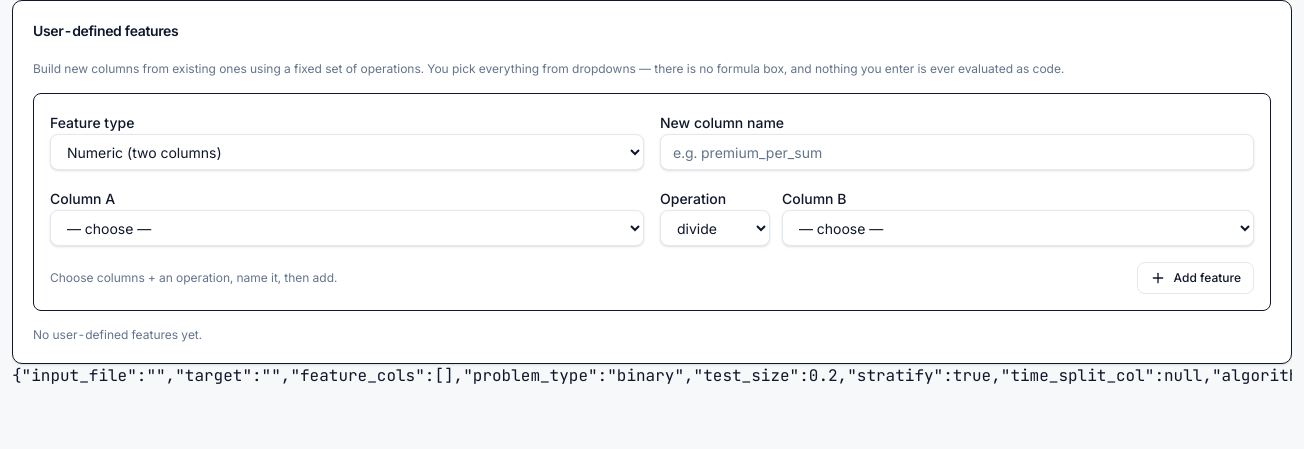
FeatureBuilderPanel › adds a numeric feature with the right spec shape to the payload
// type defaults to numeric.
Select "premium" in the dropdown labelled "Column A" at (347, 228), box [50,210,644,246]
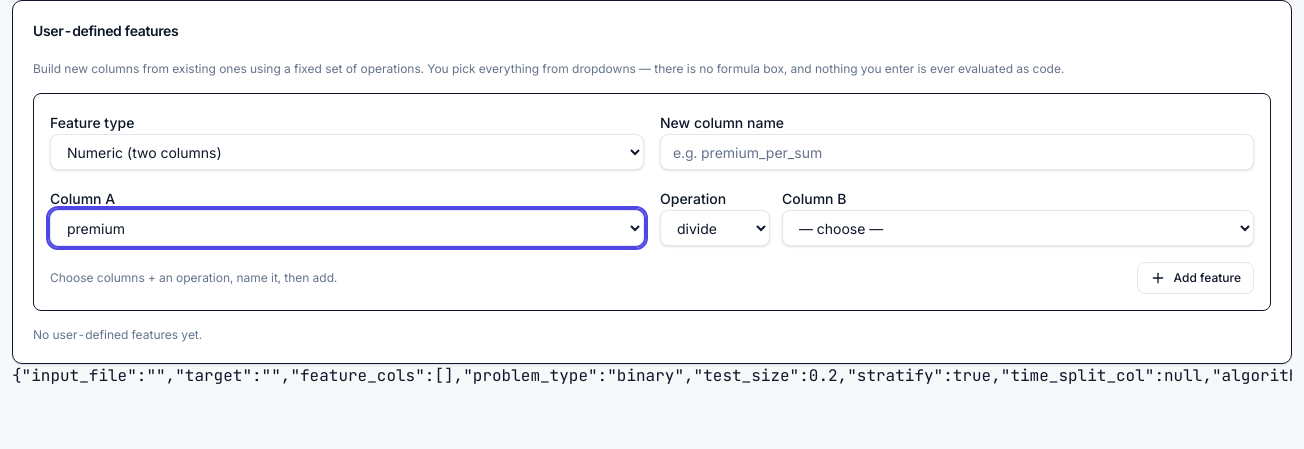
Select "divide" in the dropdown labelled "Operation" at (715, 228), box [660,210,770,246]
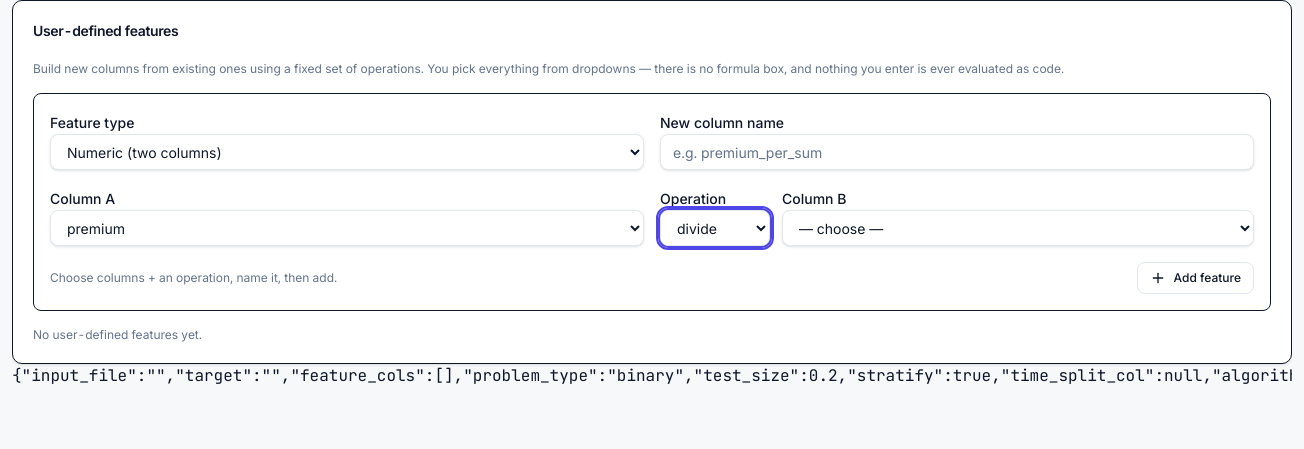
Select "sum_assured" in the dropdown labelled "Column B" at (1018, 228), box [782,210,1254,246]
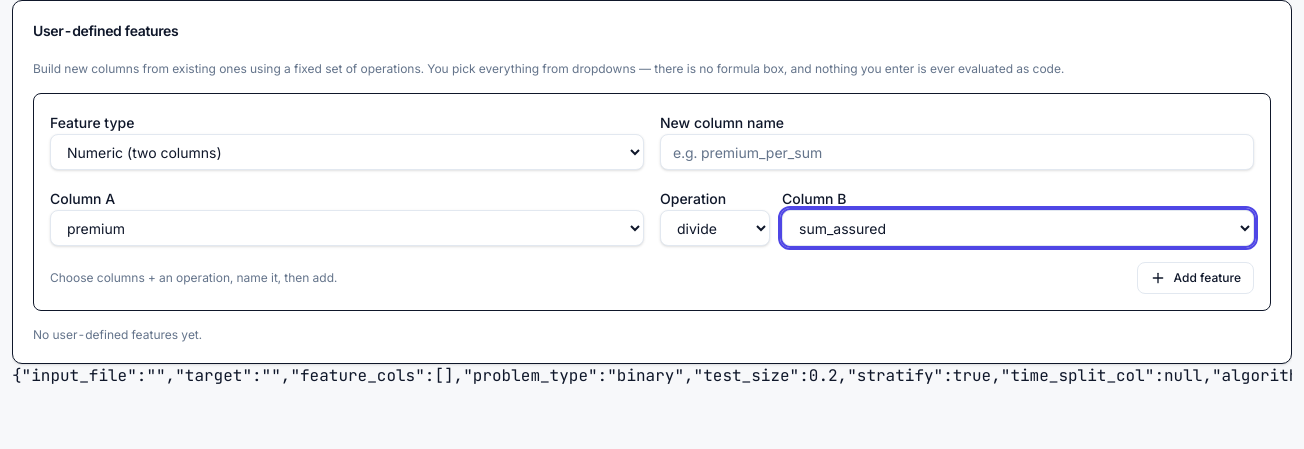
Type "premium_per_sum" into the field named "New feature name" at (957, 152), box [660,134,1254,170]
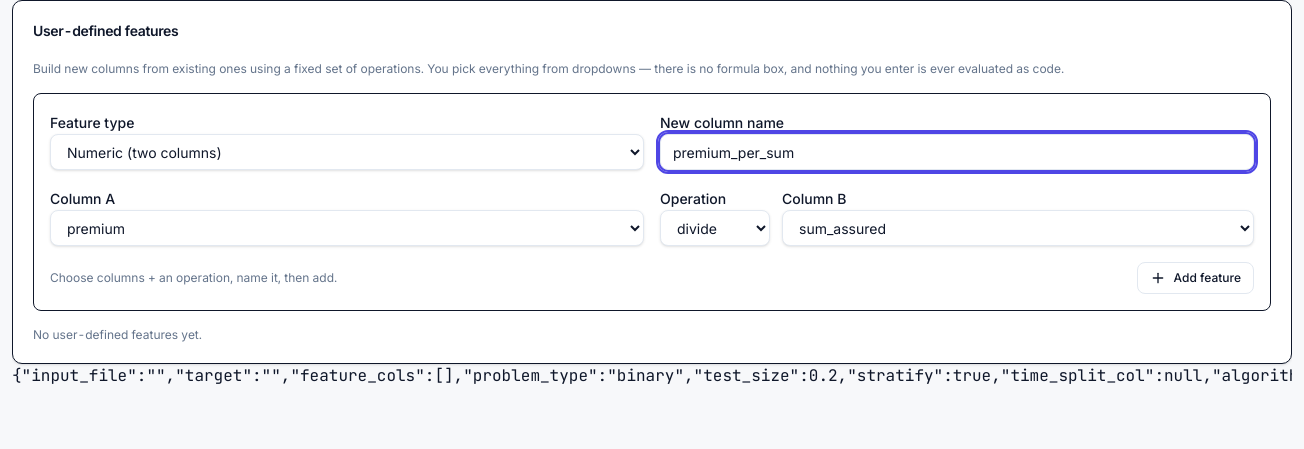
Click the button "Add feature" at (1195, 278), box [1136,262,1254,294]
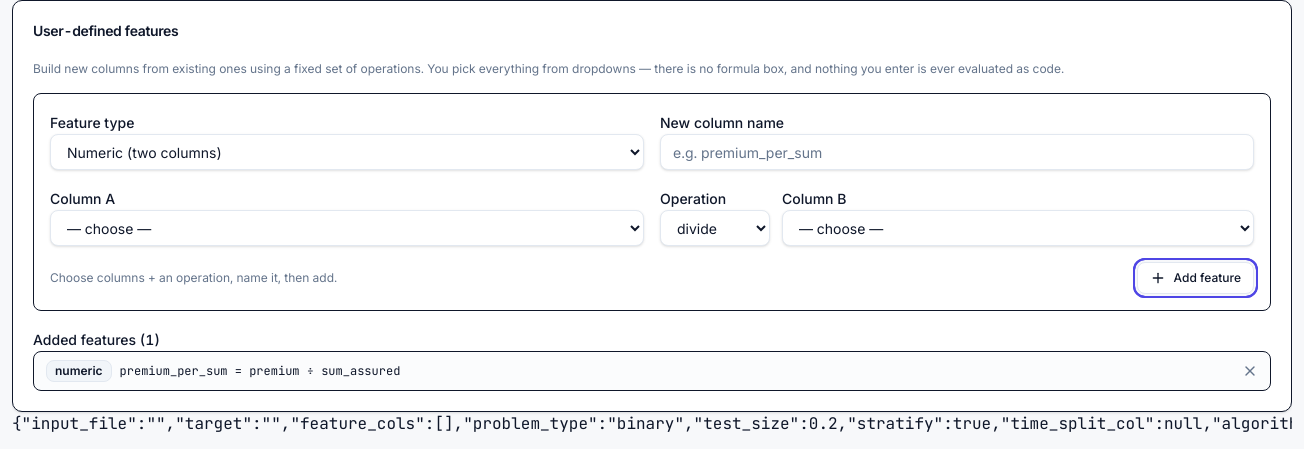
Check: the text "premium_per_sum = premium ÷ sum_assured" is shown, box [120,363,400,379]
